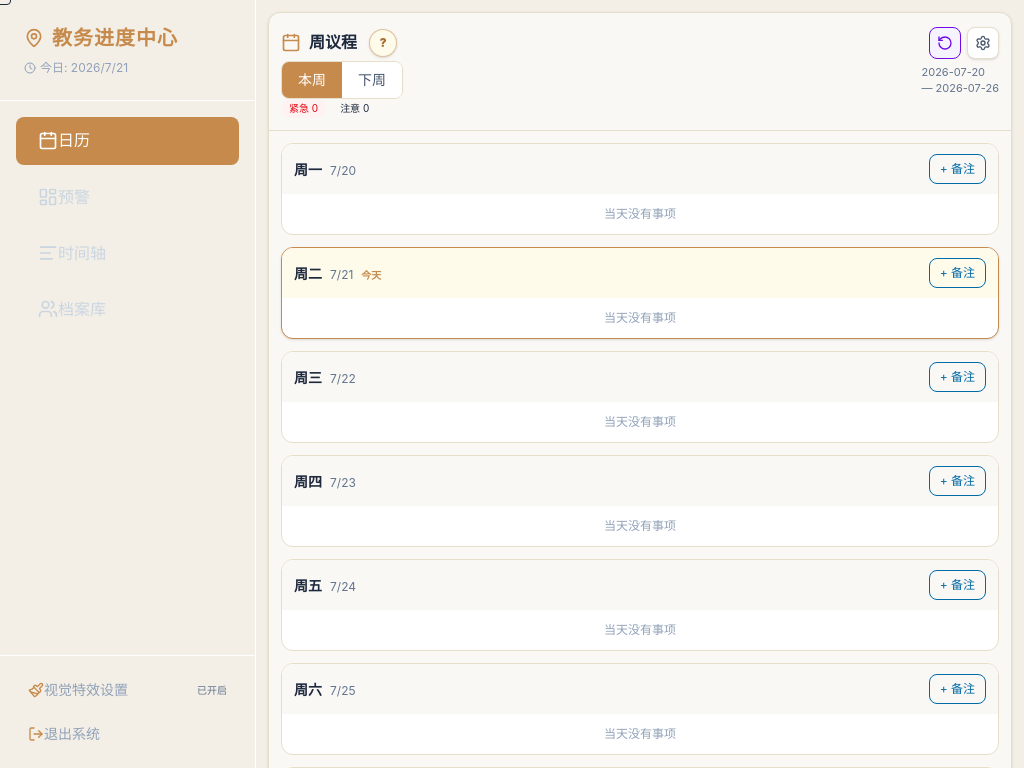
mobile archive card and optional note layout › keeps both mappings and all four safe actions on one compact row
This screenshot has width=1024, height=768.
Click the button with aria-label "学生档案和资料" at x=128, y=309, box [16,285,239,333]
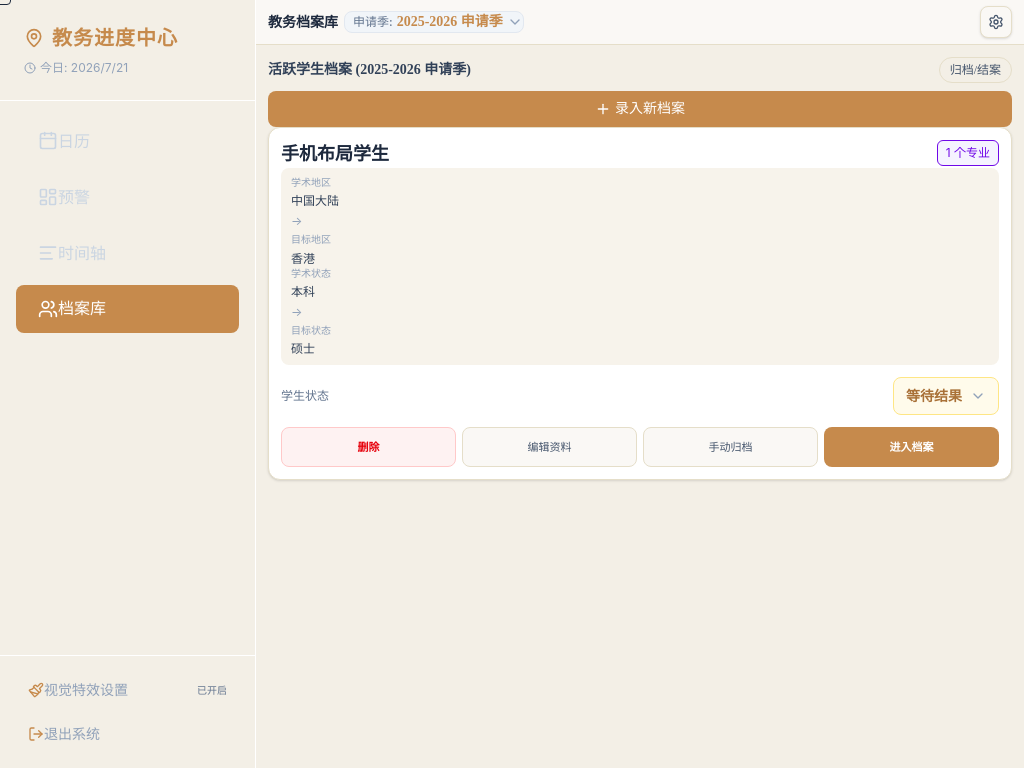
Expected: the text "手机布局学生" is shown, [281,144,389,164]
Expected: the element with class "mobile-student-card-actions" is shown, [281,427,999,467]
Expected: the buttons read "删除", "编辑资料", "手动归档", "进入档案", in this order
Click the button "删除" at x=368, y=447, box [281,427,456,467]
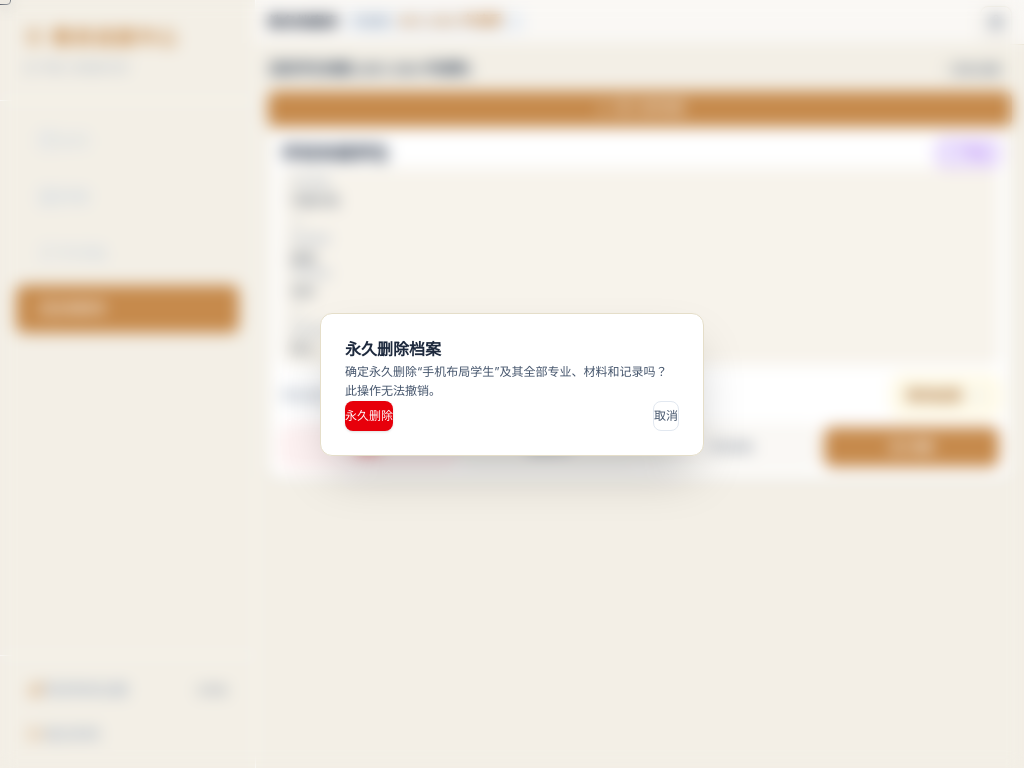
Expected: the heading "永久删除档案" is shown, [345,340,441,358]
Expected: the text "确定永久删除“手机布局学生”及其全部专业、材料和记录吗？此操作无法撤销。" is shown, [345,362,679,400]
Expected: the button "永久删除" is shown, [345,400,393,430]
Click the button "取消" at x=666, y=416, box [653,400,679,430]
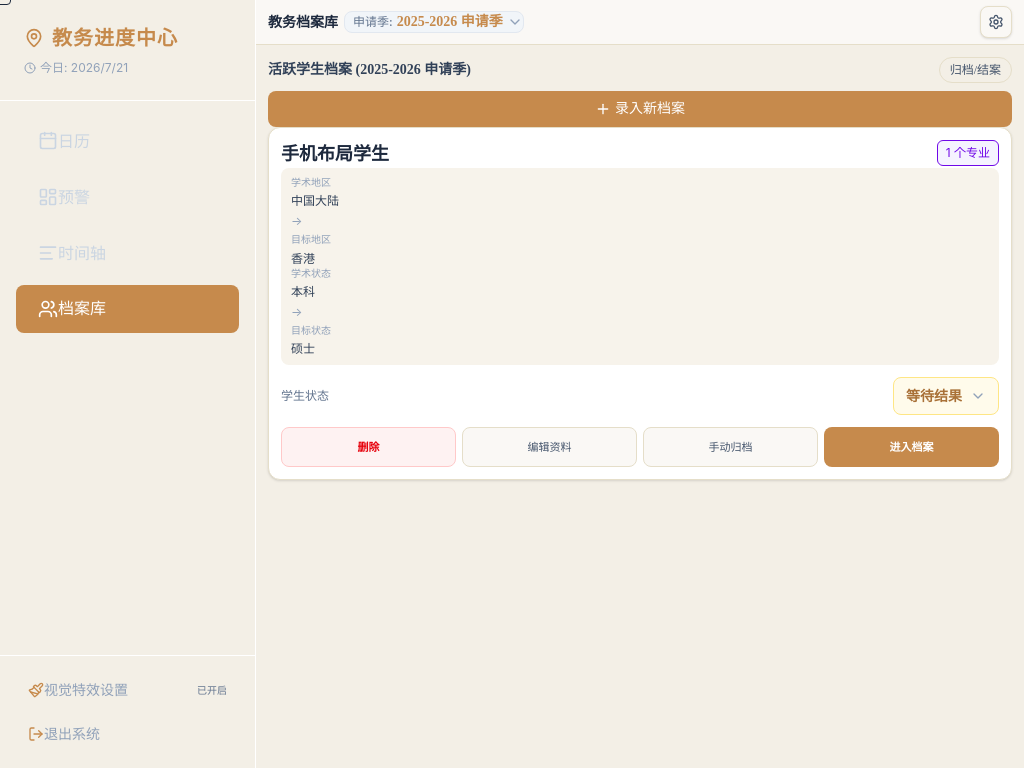
Click the button "进入档案" at x=912, y=447, box [824,427,999,467]
(page scrolled)
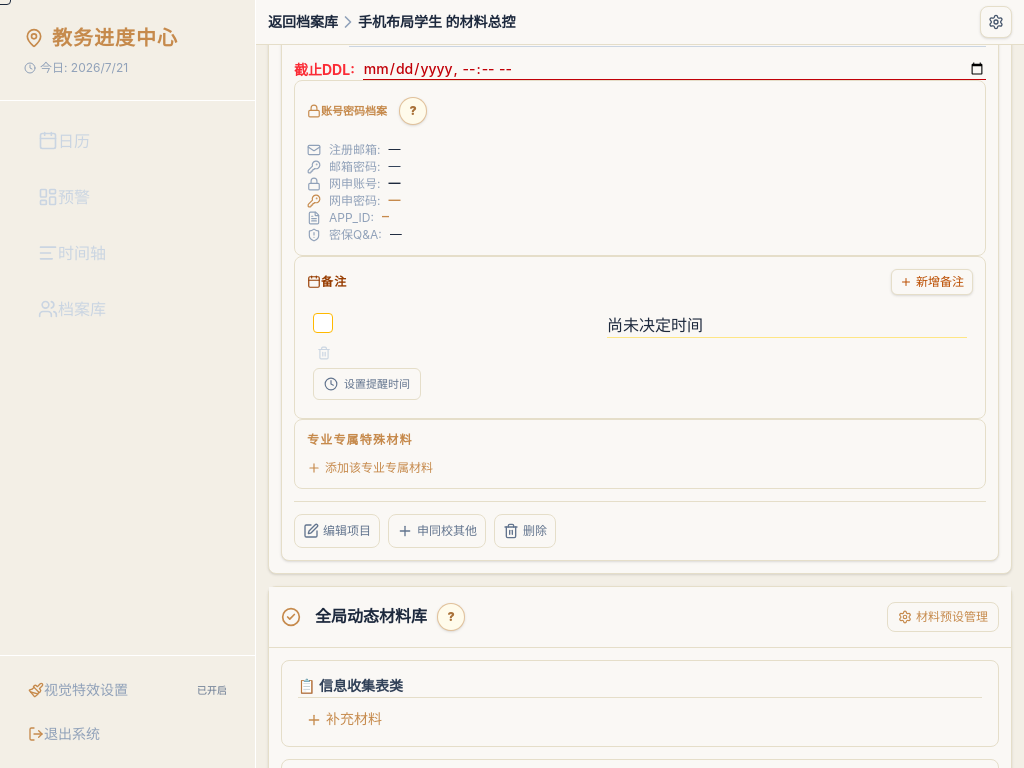
Expected: the text "尚未决定时间" is shown, [607,315,703,335]
Expected: the button "设置提醒时间" is shown, [313,368,421,400]
